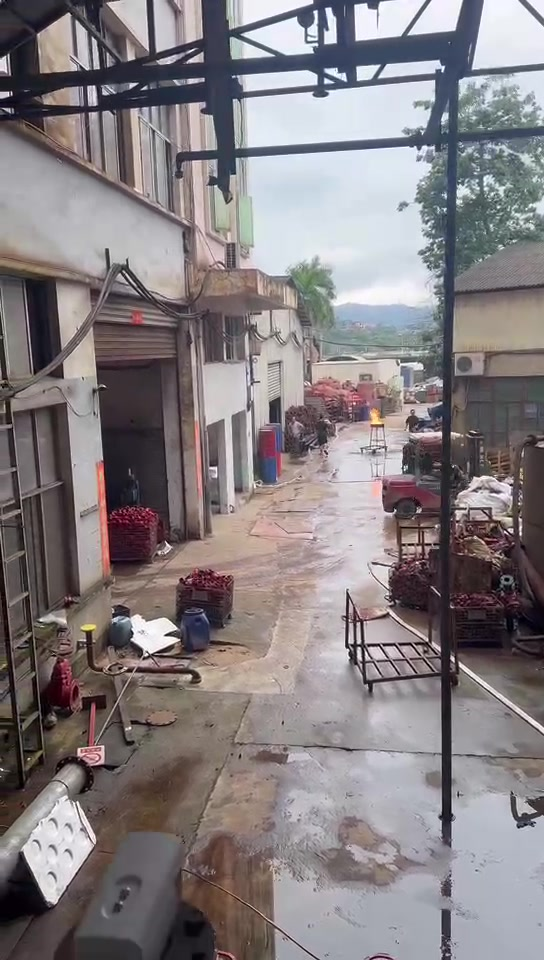fire: (369, 407, 382, 423)
